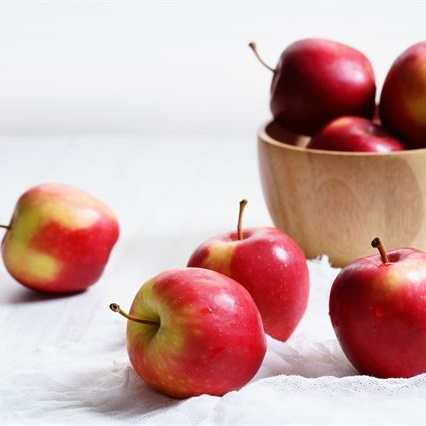apple: (126, 267, 269, 401), (186, 229, 311, 345), (1, 182, 122, 298), (327, 247, 426, 381), (267, 38, 378, 147), (309, 108, 401, 172), (377, 34, 426, 147)
